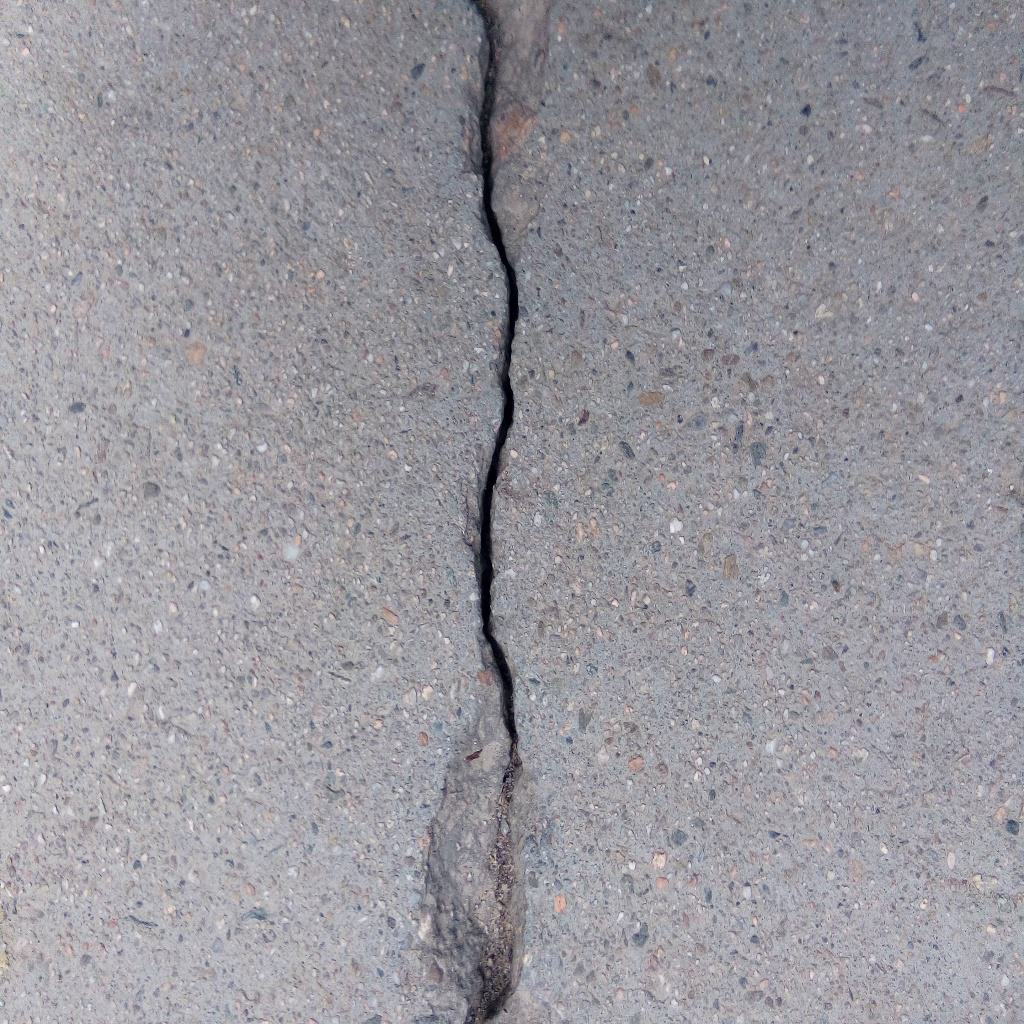Crack: (473, 1, 521, 754)
Spalling: (423, 754, 527, 1024)
